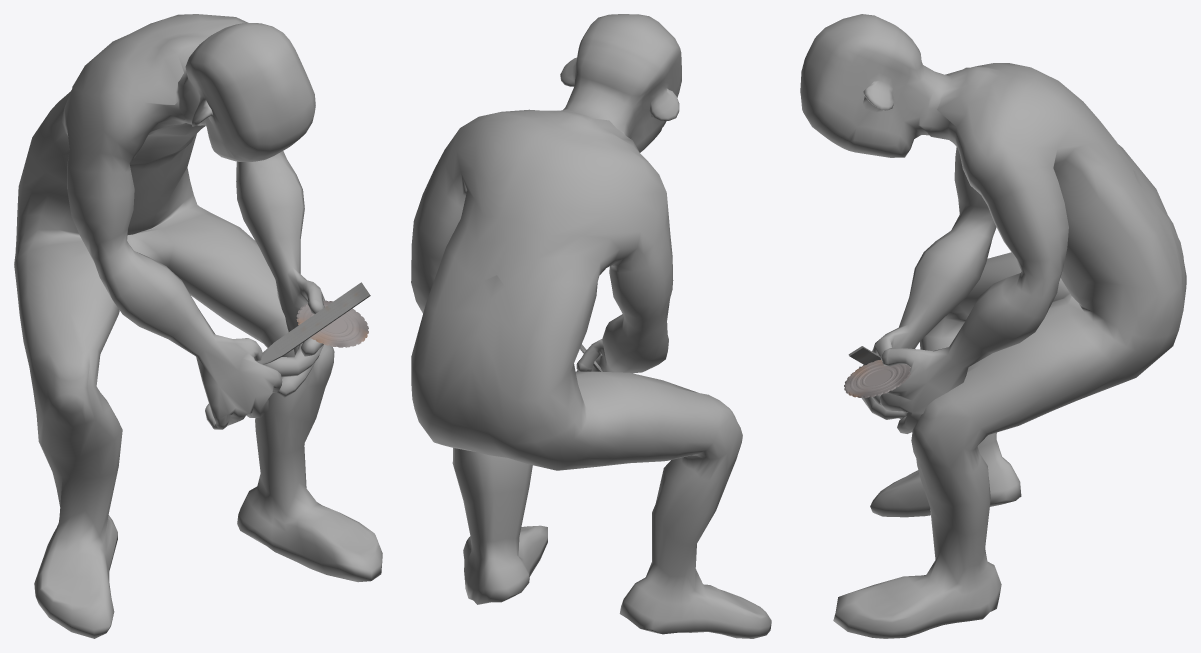
Rendered from jackfilingmodel.fbx.
3 renders of one model, left to right at view 1: azimuth 30°, elevation 25°; view 2: azimuth 150°, elevation 25°; view 3: azimuth 270°, elevation 25°, orthographic. The views are drawn at different scales.
Visible parts, largest first — view 1: mesh, file, lid; view 2: mesh; view 3: mesh, lid.
Part boxes in pixels (box(x1,y1,x2,y2)): mesh: box(14, 14, 382, 638); file: box(257, 282, 370, 364); lid: box(296, 300, 368, 347); mesh: box(411, 14, 771, 638); mesh: box(800, 14, 1186, 638); lid: box(844, 360, 910, 397).
Size of the model in its own units: 22.54 by 39.16 by 24.42.
4 materials, 3 textured.
